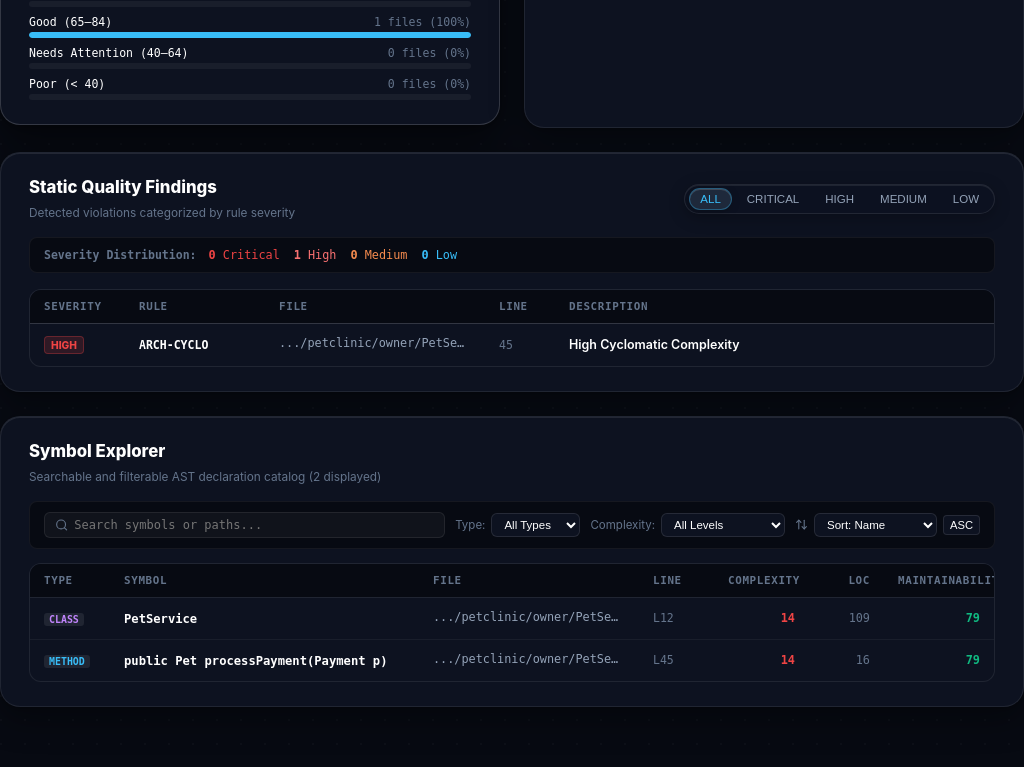
Scenario: AnalysisPage Component › renders symbol explorer and opens symbol detail inspector with relationships
(page scrolled)
Expected: the heading "Symbol Explorer" is shown, [29,441,165,461]
Expected: the text "PetService" is shown, [124,612,197,626]
Note: Click on a symbol to open inspector
Click the text "public Pet processPayment(Payment p)" at (256, 661), box [124,654,388,668]
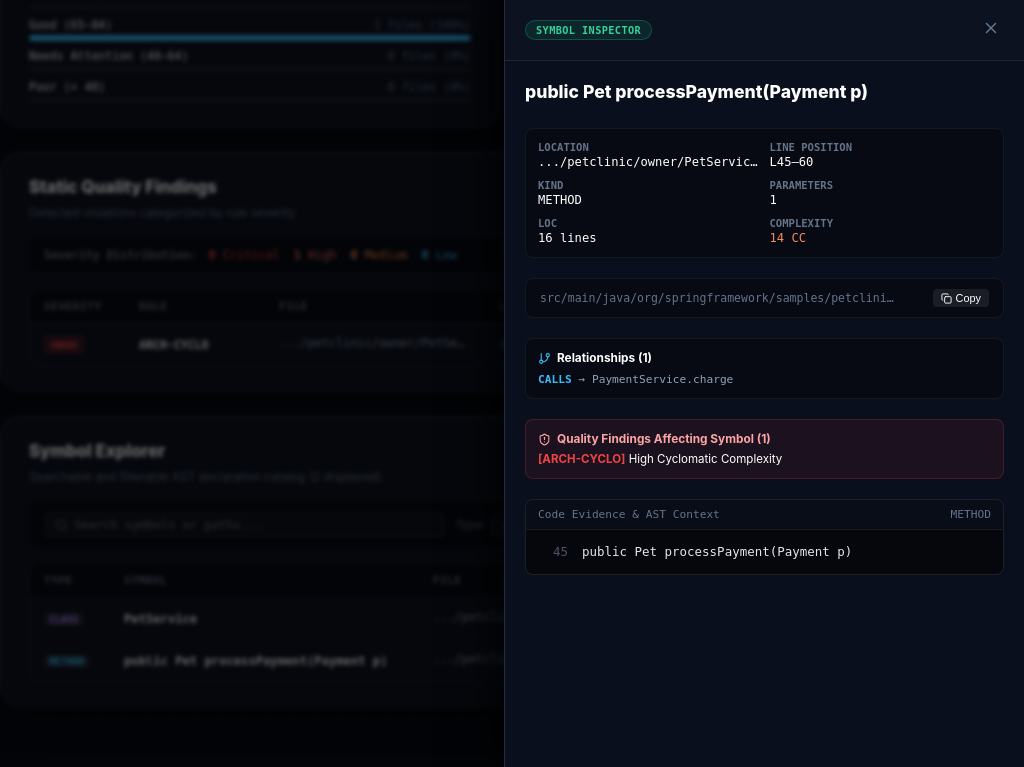
Expected: the text "SYMBOL INSPECTOR" is shown, [525,20,652,40]
Expected: the text "Relationships (1)" is shown, [557,351,652,365]
Expected: the text "CALLS" is shown, [538,373,572,386]
